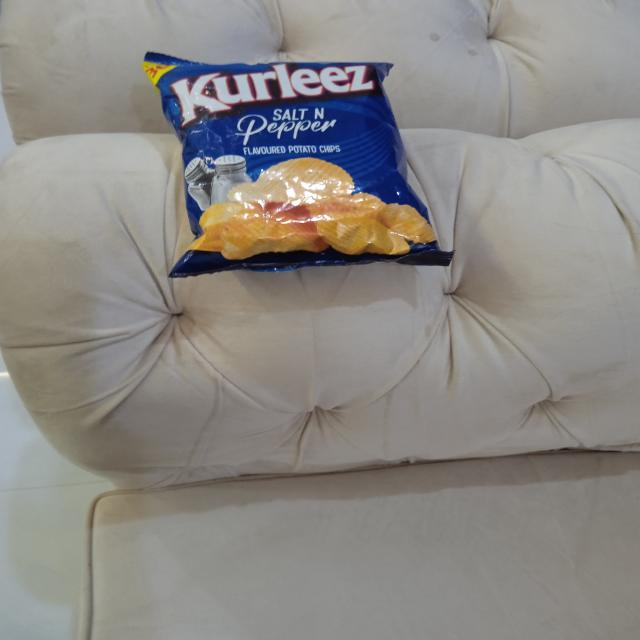Plastic: (140, 49, 459, 280)
